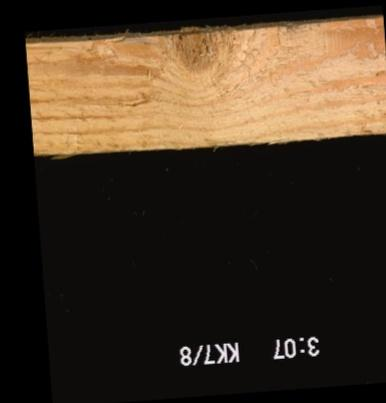edge_knot: (170, 21, 233, 71)
wave: (93, 28, 159, 48)
